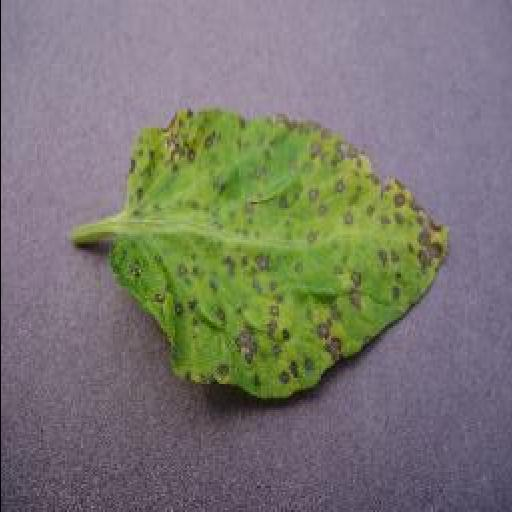disease_tomato: (105, 111, 451, 403)
